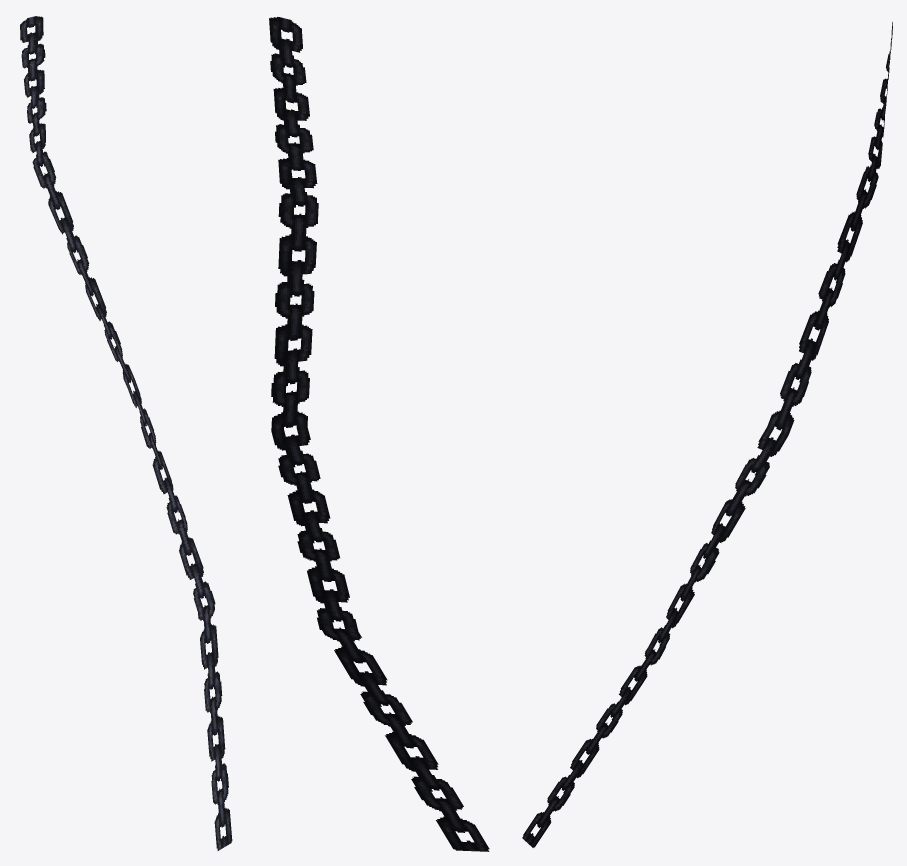
Rendered from 10504_Chain01.FBX.
3 renders of one model, left to right at view 1: azimuth 30°, elevation 25°; view 2: azimuth 150°, elevation 25°; view 3: azimuth 270°, elevation 25°, orthographic. The views are drawn at different scales.
Parts seen in each view (by area): view 1: Plane037; view 2: Plane037; view 3: Plane037.
Part boxes in pixels (box(x1,y1,x2,y2)): Plane037: box(20, 16, 232, 850); Plane037: box(269, 17, 489, 851); Plane037: box(522, 22, 892, 847).
Size of the model in its own units: 182 by 1246 by 523.
